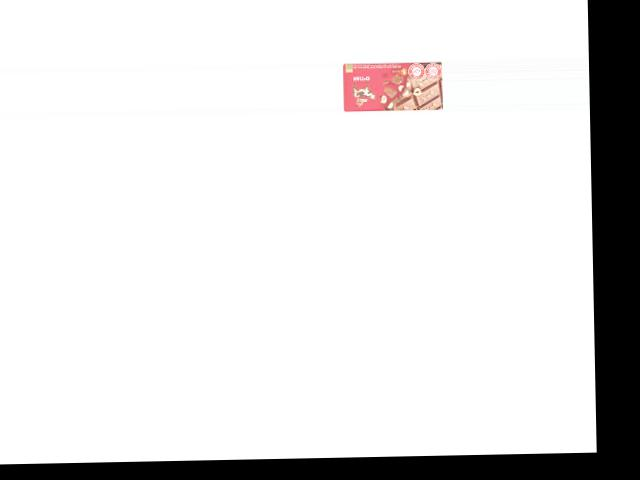chocolate: (342, 60, 443, 112)
